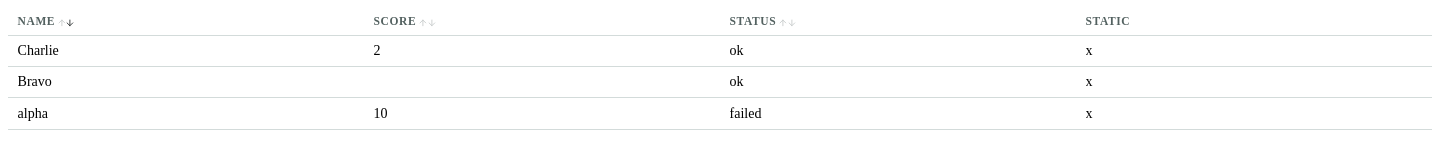
Test case: every sortable column cycles asc -> desc -> none with aria-sort
Earlier steps of the test are not shown.
Later steps or results of the test are not shown.
Click the column heading "Name" at x=186, y=22, box [8,8,364,35]
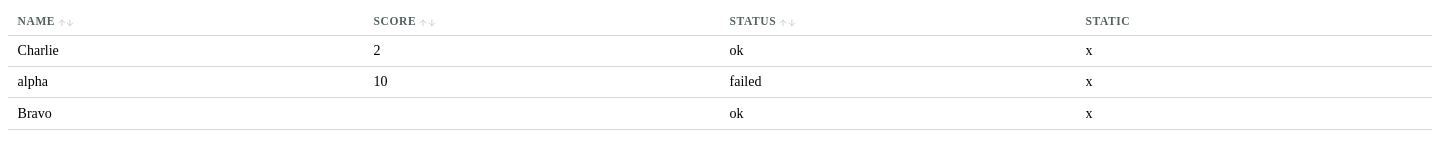
Click the column heading "Score" at x=542, y=22, box [364,8,720,35]
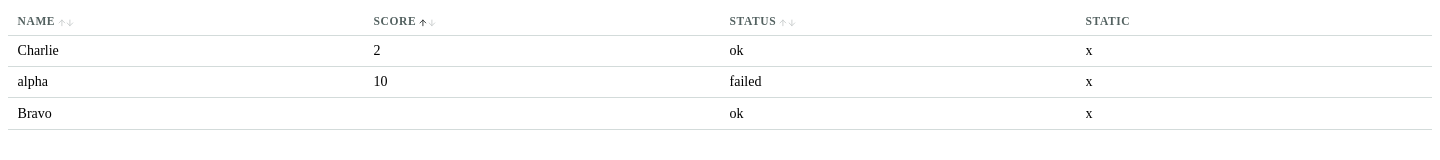
Click the column heading "Score" at x=542, y=22, box [364,8,720,35]
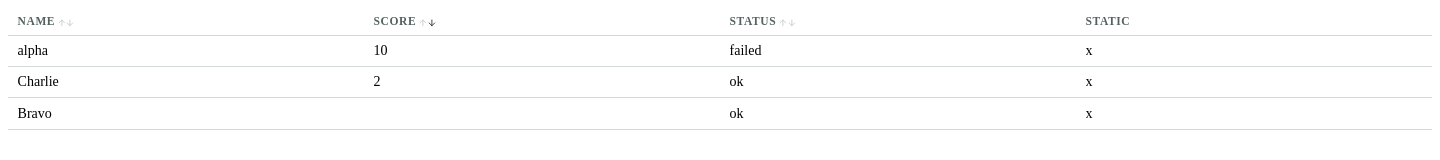
Now the column heading "Score" has attribute aria-sort="descending"
Click the column heading "Score" at x=542, y=22, box [364,8,720,35]
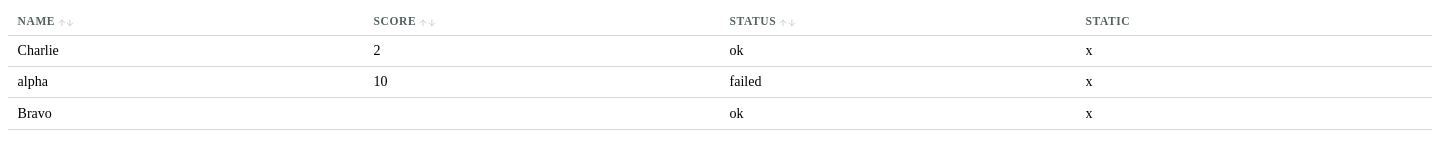
Click the column heading "Status" at x=898, y=22, box [720,8,1076,35]
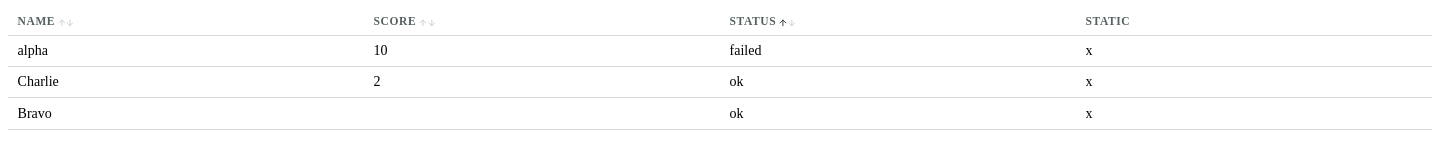
Click the column heading "Status" at x=898, y=22, box [720,8,1076,35]
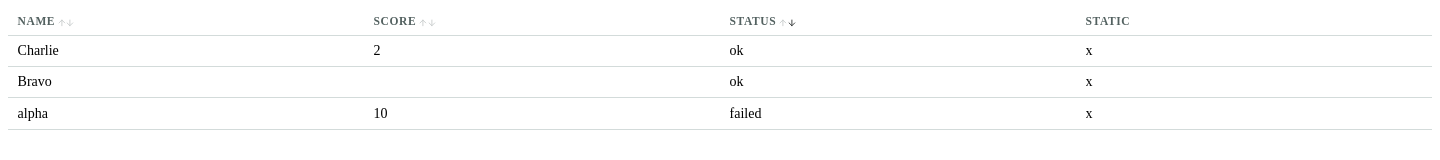
Now the column heading "Status" has attribute aria-sort="descending", box [720,8,1076,35]
